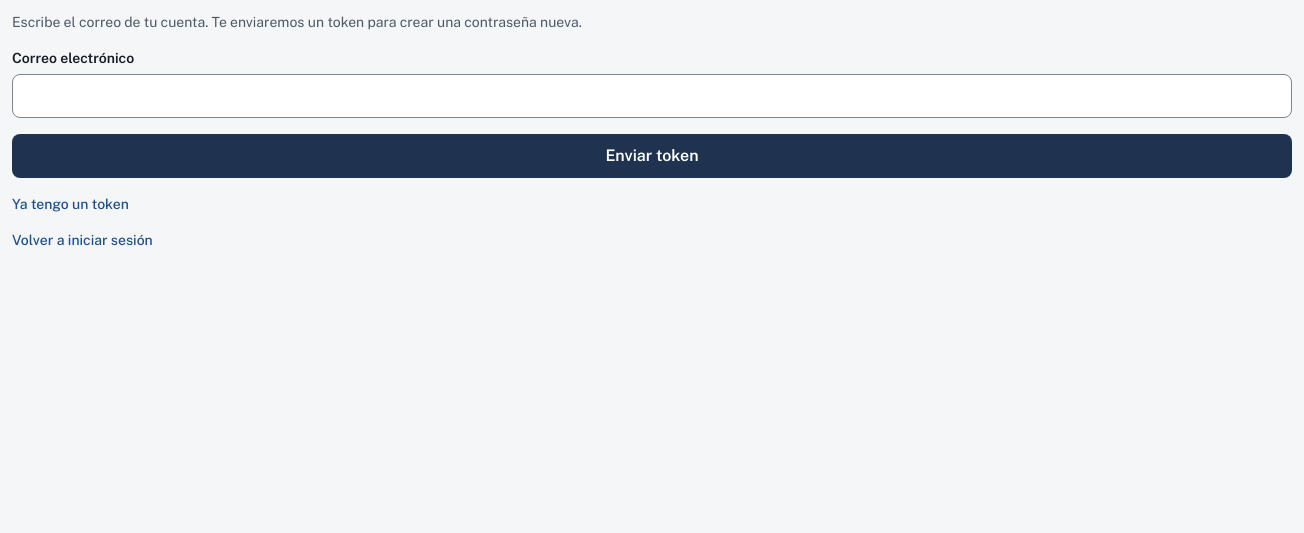
Test: RecuperarPassword › no envía si la contraseña no cumple las reglas del registro
The width and height of the screenshot is (1304, 533).
Click the button "Ya tengo un token" at [70, 204], box top-left (12, 194), bottom-right (129, 214)
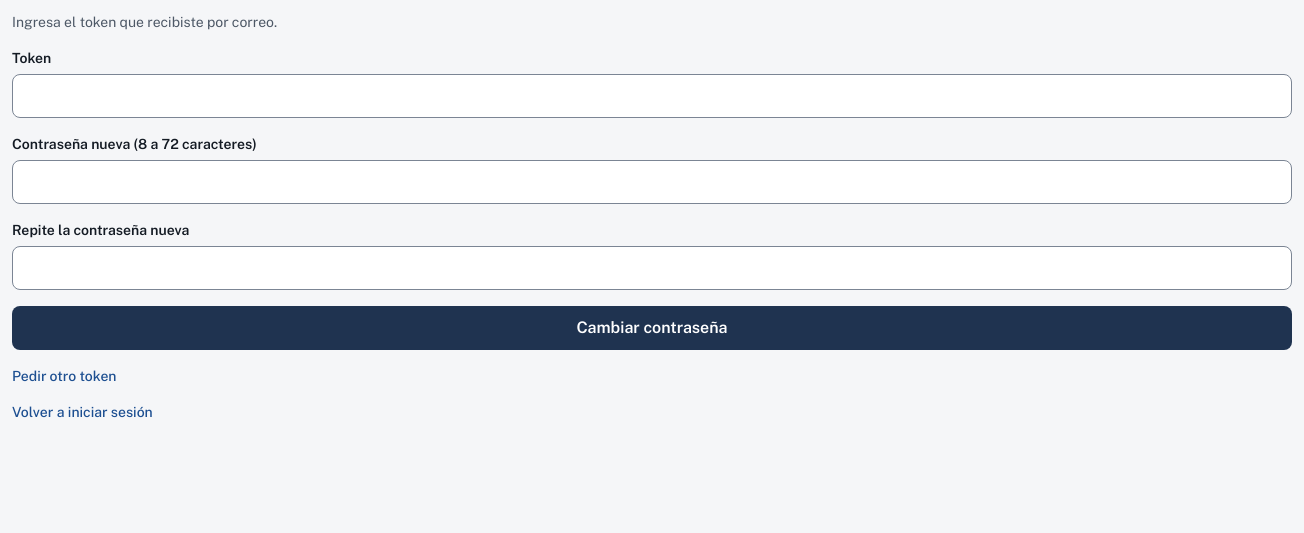
Type "abc-123" into the field labelled "Token" at [652, 96], box top-left (12, 74), bottom-right (1292, 118)
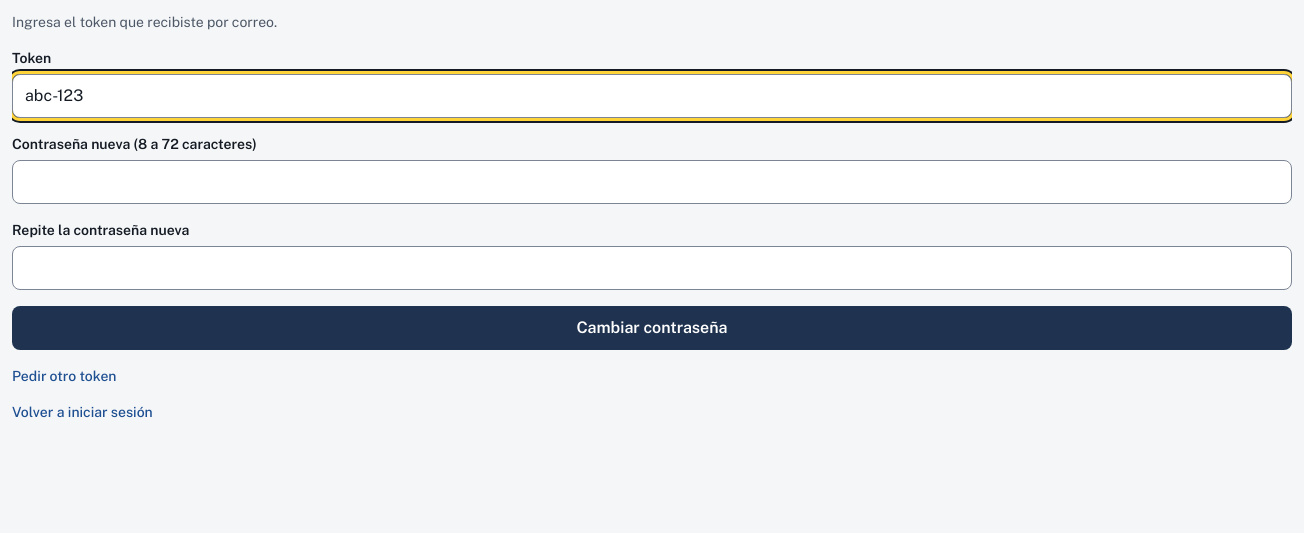
Type "corta" into the password field labelled "Contraseña nueva (8 a 72 caracteres)" at [652, 182], box top-left (12, 160), bottom-right (1292, 204)
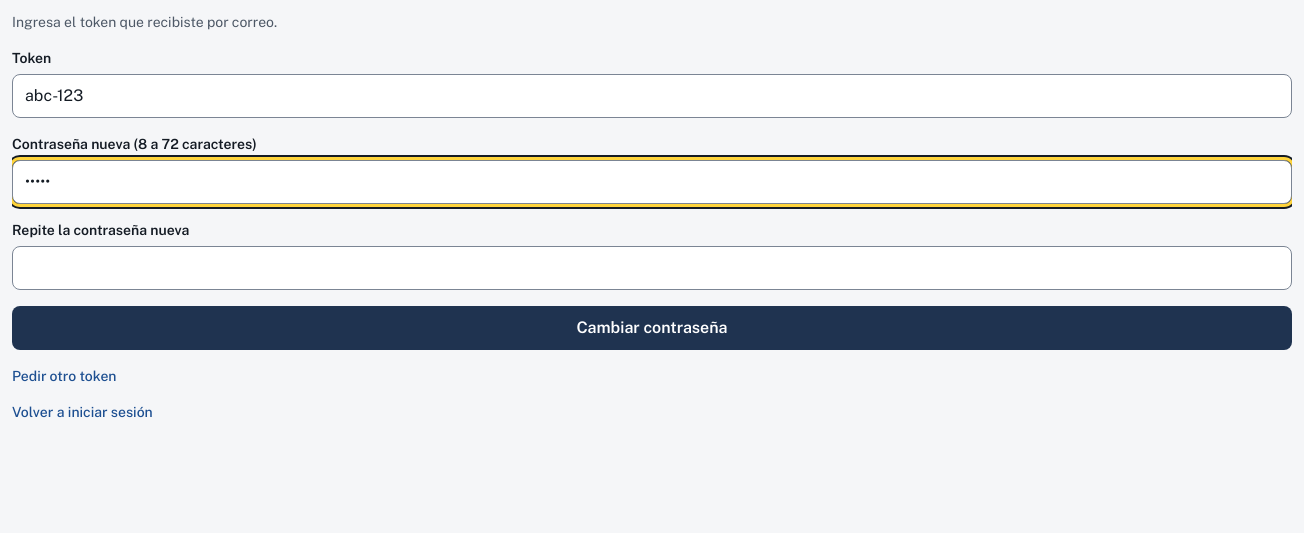
Type "distinta" into the password field labelled "Repite la contraseña nueva" at [652, 268], box top-left (12, 246), bottom-right (1292, 290)
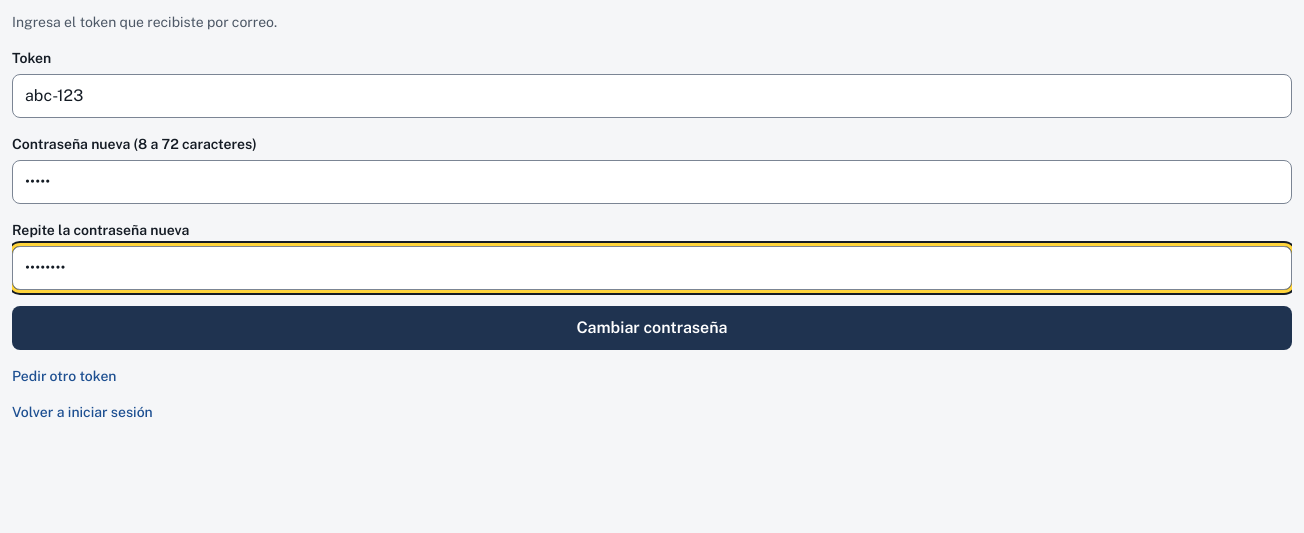
Click the button "Cambiar contraseña" at [652, 328], box top-left (12, 306), bottom-right (1292, 350)
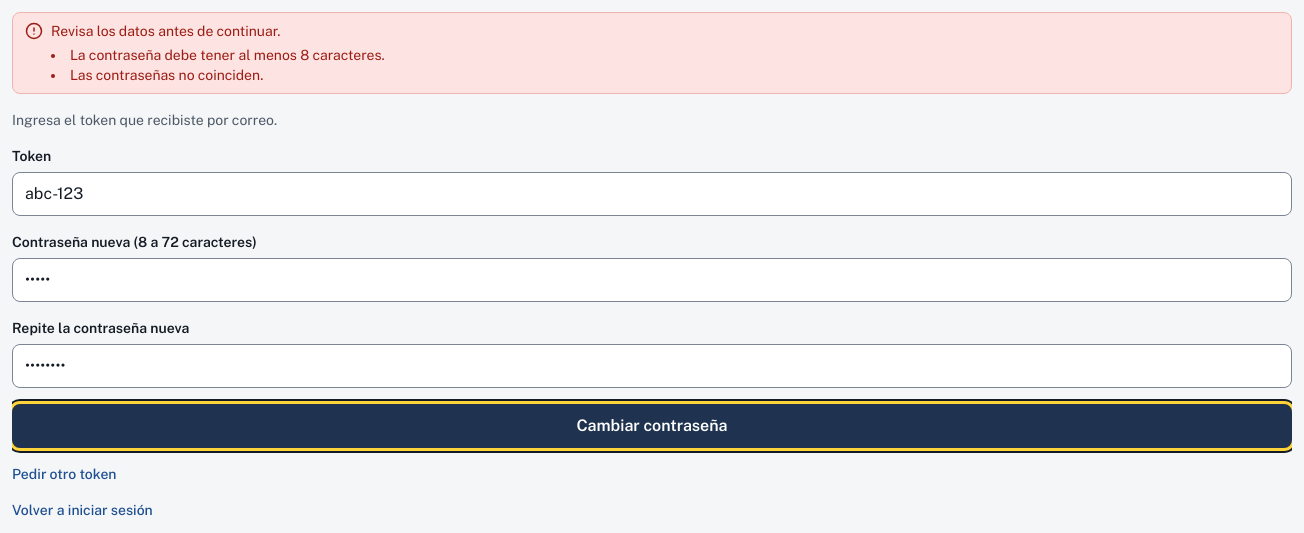
Expected: the list item "La contraseña debe tener al menos 8 caracteres." is shown, top-left (70, 47), bottom-right (385, 63)
Expected: the list item "Las contraseñas no coinciden." is shown, top-left (70, 67), bottom-right (263, 83)
